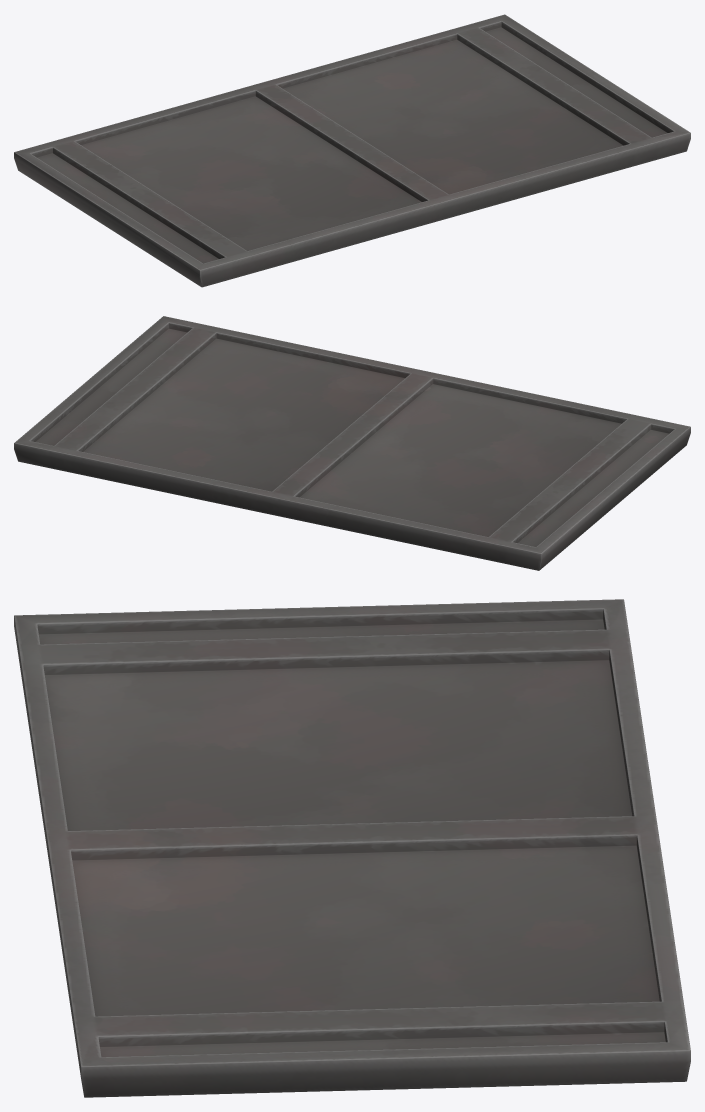
Rendered from door2.fbx.
The picture shows the model from 3 angles, top to bottom: view 1: azimuth 30°, elevation 25°; view 2: azimuth 150°, elevation 25°; view 3: azimuth 270°, elevation 25°; orthographic projection. The views are drawn at different scales.
Visible parts, largest first — view 1: door; view 2: door; view 3: door.
Boxes of the visible parts, x1,y1,x2,y2 form: door: (14,14,690,287); door: (14,316,690,570); door: (14,599,690,1097).
Bounding box in the file's own units: 198 × 6.67 × 121.
Materials: 1 (1 with a texture image).
